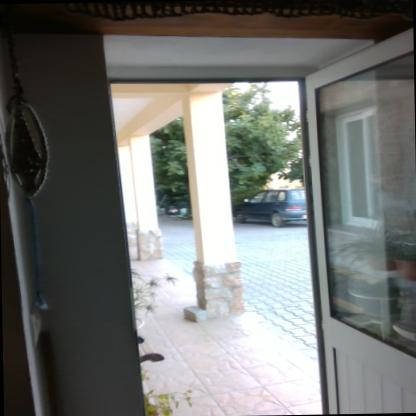open: (95, 8, 416, 416)
